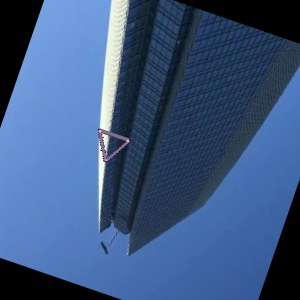triangle: (95, 125, 132, 164)
